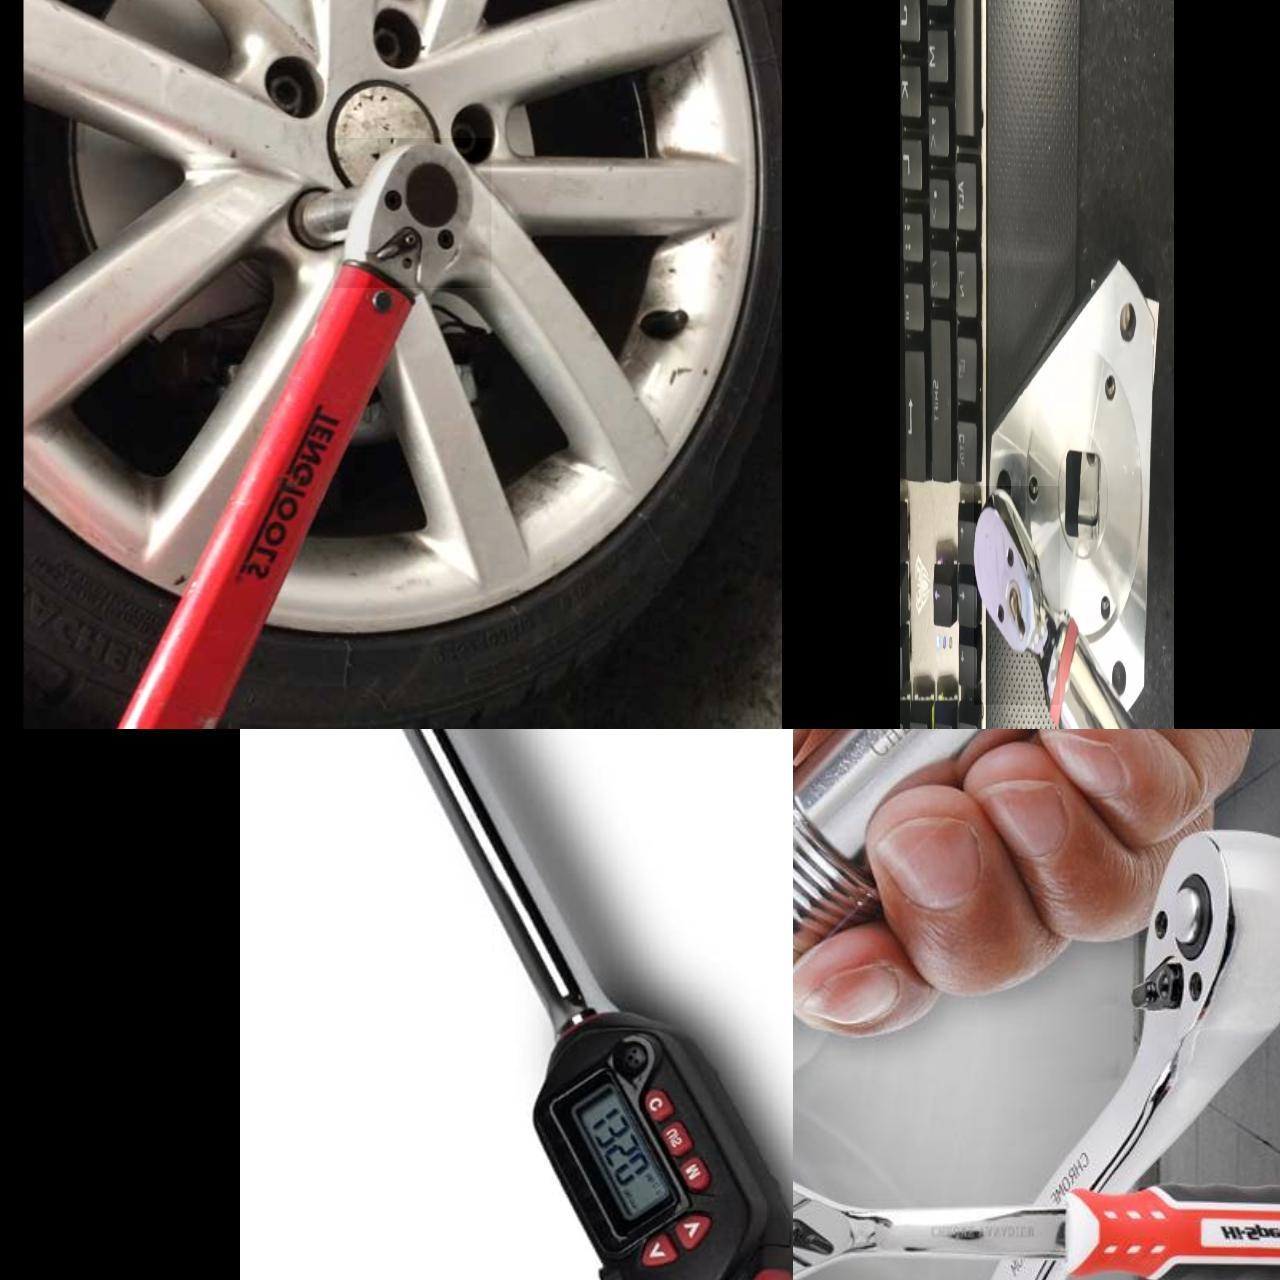Tool: (334, 138, 492, 288), (974, 486, 1060, 705), (793, 1173, 888, 1280)
